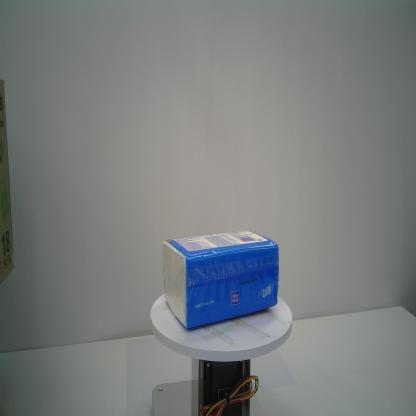Tissue: (162, 230, 279, 328)
